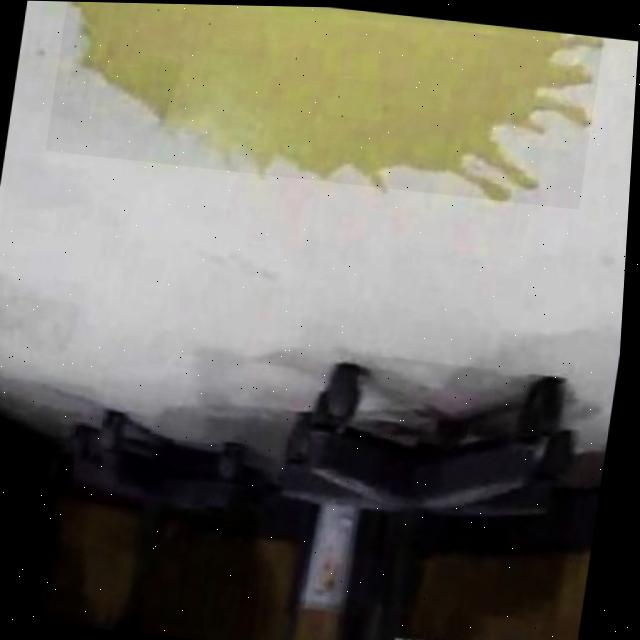spillage: (71, 1, 603, 198)
